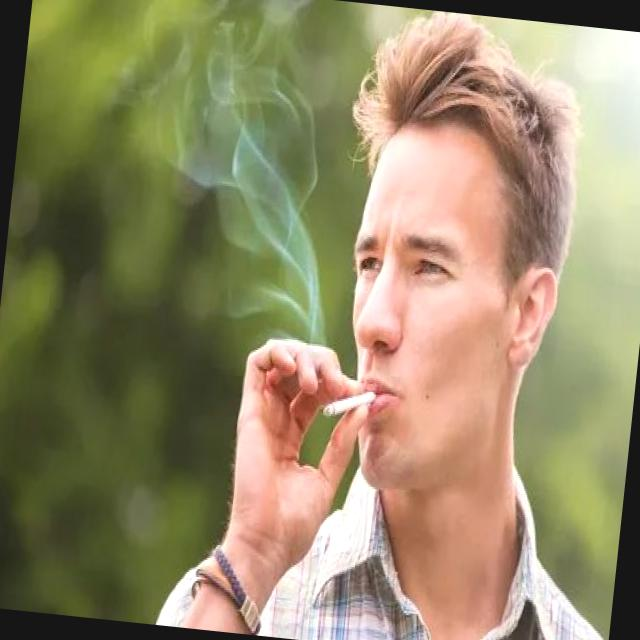smoke: (319, 381, 377, 424)
